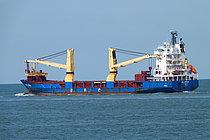Ship: (18, 30, 203, 98)
